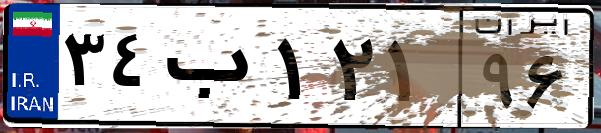1: (270, 28, 330, 110), (385, 28, 445, 110)
2: (330, 28, 385, 110)
3: (57, 26, 110, 100)
4: (110, 28, 158, 98)
6: (525, 38, 570, 115)
9: (475, 38, 525, 113)
ب: (158, 20, 270, 120)
